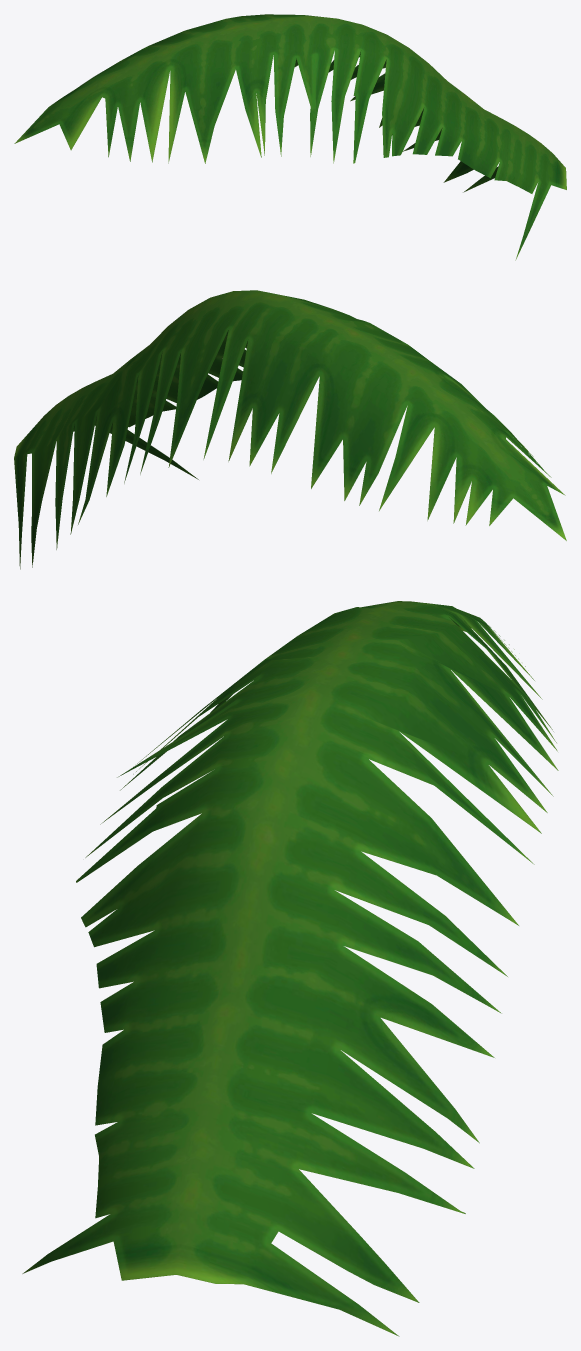
File: palm_leaves_palm_leaves_0_009.obj
The picture shows the model from 3 angles, top to bottom: view 1: azimuth 30°, elevation 25°; view 2: azimuth 150°, elevation 25°; view 3: azimuth 270°, elevation 25°; orthographic projection. The views are drawn at different scales.
Parts seen in each view (by area): view 1: palm_leaves_palm_leaves_0.009; view 2: palm_leaves_palm_leaves_0.009; view 3: palm_leaves_palm_leaves_0.009.
Boxes of the visible parts, x1,y1,x2,y2 form: palm_leaves_palm_leaves_0.009: (14,14,566,260); palm_leaves_palm_leaves_0.009: (14,290,566,569); palm_leaves_palm_leaves_0.009: (22,601,558,1336).
Bounding box in the file's own units: 28.21 × 13.24 × 13.67.
Materials: 1 (1 with a texture image).
